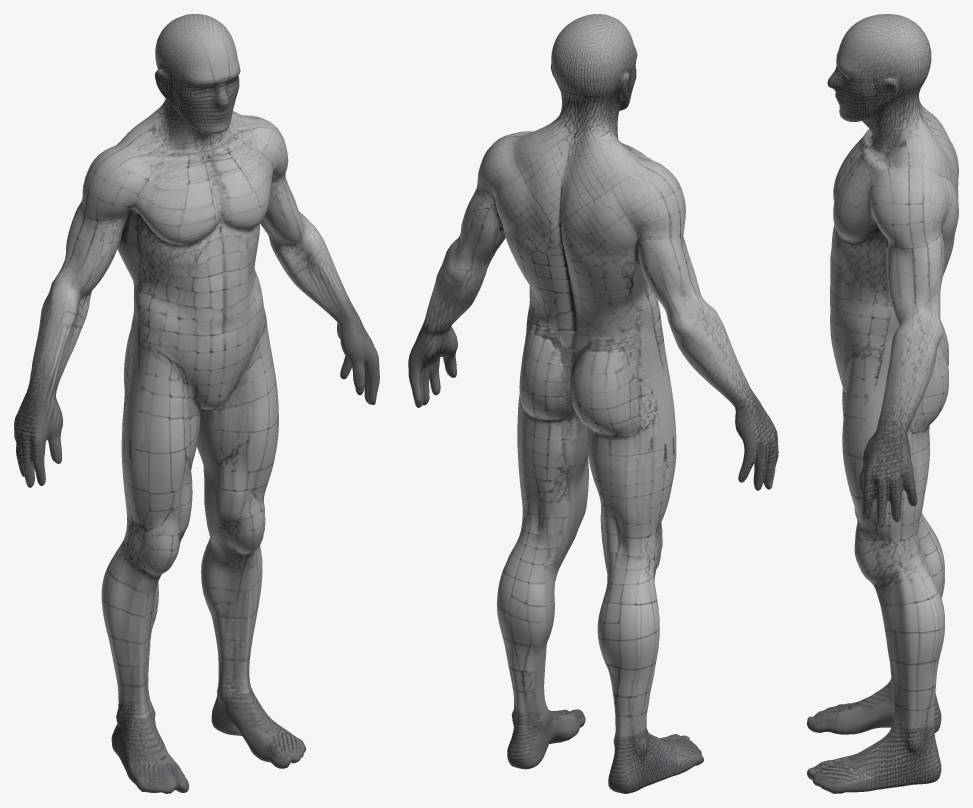
File: 3d_human_body_wireframe_model.glb
3 renders of one model, left to right at view 1: azimuth 30°, elevation 25°; view 2: azimuth 150°, elevation 25°; view 3: azimuth 270°, elevation 25°, orthographic.
Parts seen in each view (by area): view 1: Object_2; view 2: Object_2; view 3: Object_2.
Part boxes in pixels (x1=…): Object_2: x1=14, y1=14, x2=379, y2=793; Object_2: x1=408, y1=14, x2=778, y2=793; Object_2: x1=807, y1=14, x2=958, y2=793.
Bounding box in the file's own units: 0.9618 × 1.91 × 0.3559.
1 material, 1 textured.
